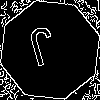J: (25, 25, 62, 76)
